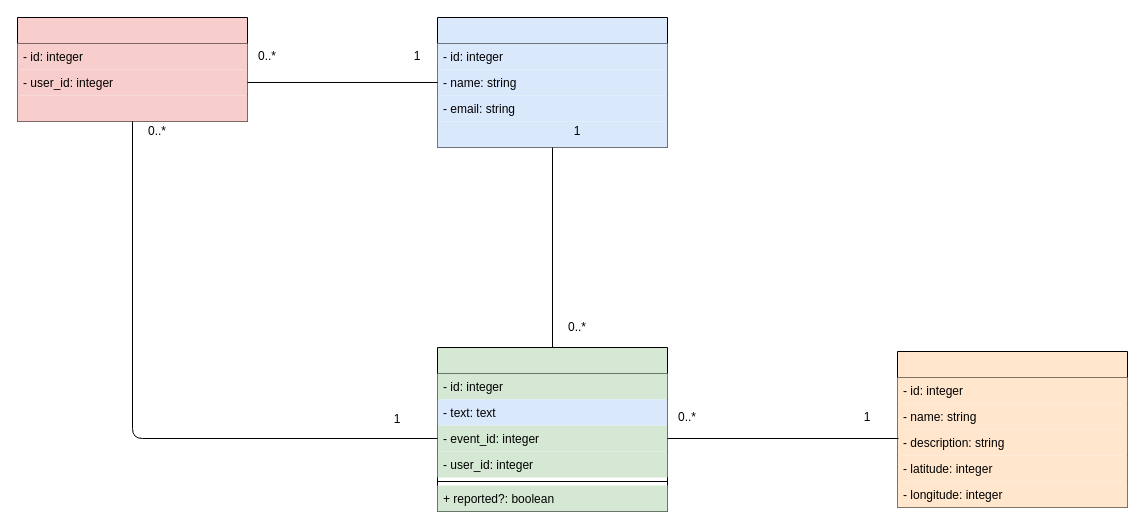
Image size: 1145x532. Some labels were removed from this diagram. Here are the shapes that lost their labels. From the top down, the box of each, then its label:
(16, 16, 248, 122): Report
(436, 16, 668, 148): User
(17, 95, 247, 121): - comment_id: integer
(437, 121, 667, 147): - password: string
(436, 346, 668, 512): Comment
(896, 350, 1128, 508): Event
